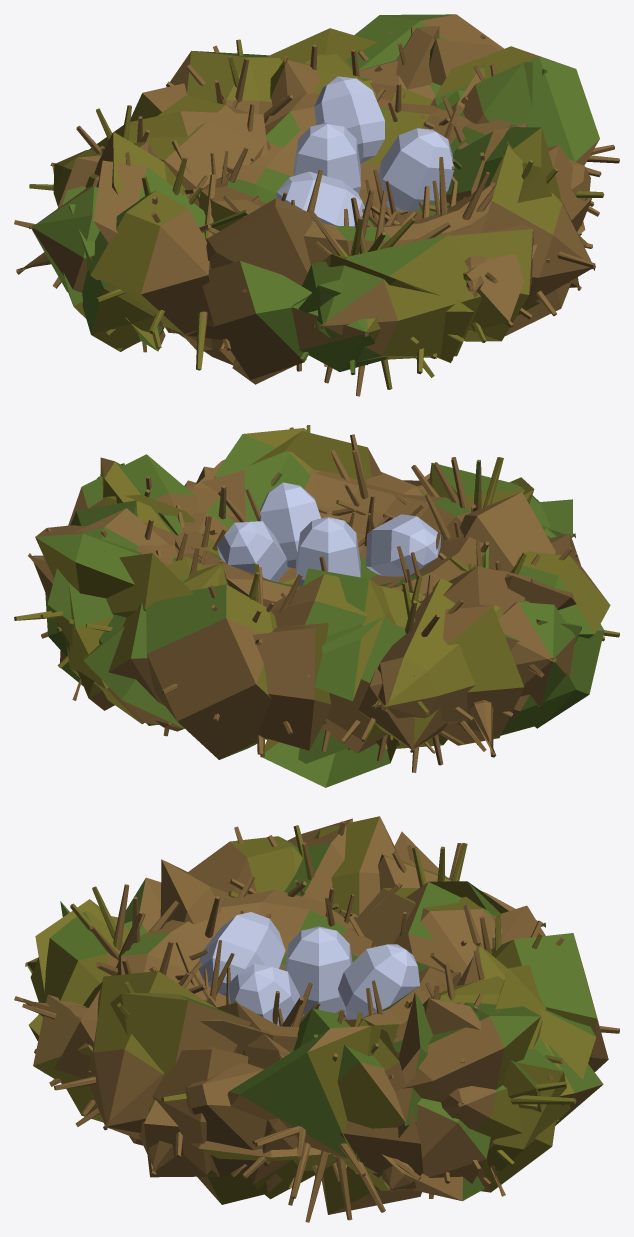
Rendered from BirdNest.fbx.
The picture shows the model from 3 angles, top to bottom: view 1: azimuth 30°, elevation 25°; view 2: azimuth 150°, elevation 25°; view 3: azimuth 270°, elevation 25°; orthographic projection. The views are drawn at different scales.
Parts seen in each view (by area): view 1: pCube507, pSphere2, pSphere4, pSphere1, pSphere3; view 2: pCube507, pSphere3, pSphere1, pSphere4, pSphere2; view 3: pCube507, pSphere1, pSphere4, pSphere3, pSphere2.
Boxes of the visible parts, x1,y1,x2,y2 form: pCube507: (14,14,619,396); pSphere2: (378,128,453,212); pSphere4: (314,76,384,163); pSphere1: (293,122,360,194); pSphere3: (276,171,364,226); pCube507: (14,425,619,787); pSphere3: (365,514,440,576); pSphere1: (296,516,360,586); pSphere4: (217,521,287,581); pSphere2: (260,482,320,568); pCube507: (14,816,619,1222); pSphere1: (284,926,352,1014); pSphere4: (338,944,419,1019); pSphere3: (198,912,285,995); pSphere2: (228,963,302,1026).
Bounding box in the file's own units: 6.06 × 2.55 × 5.54.
